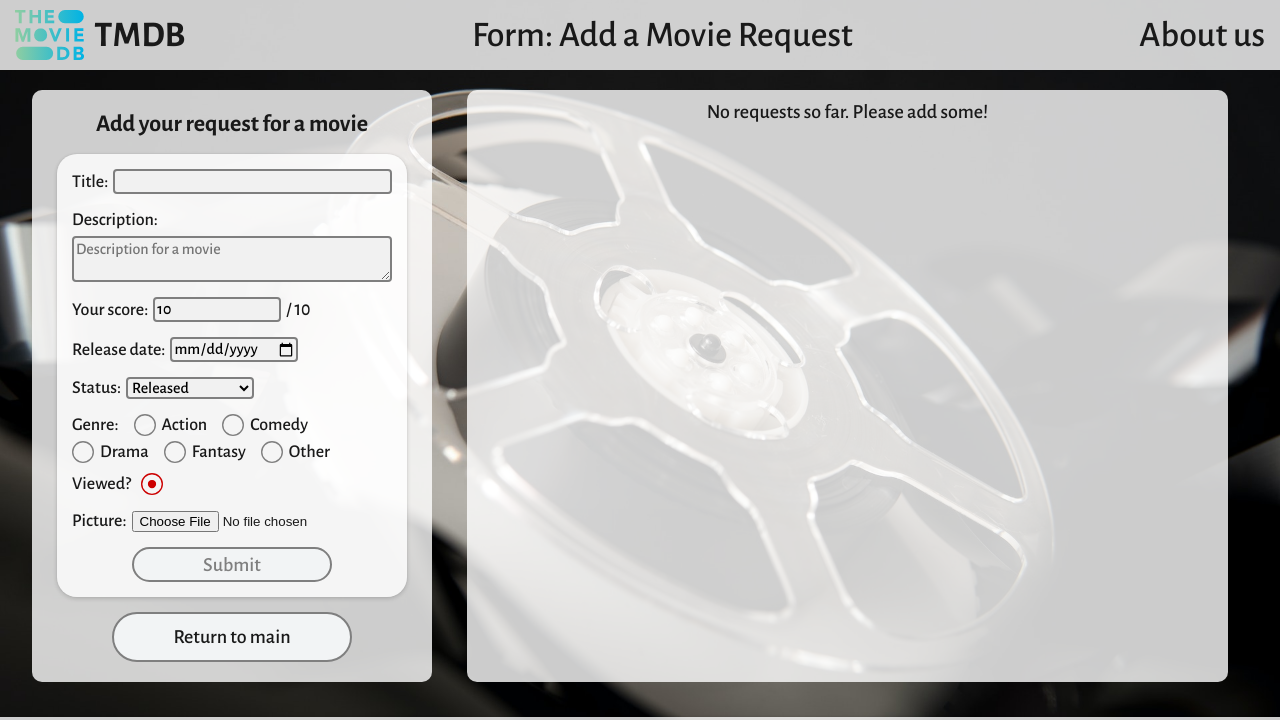
Form Page (with user generated cards) › creates new card after submitting
Step 1. Type "New Camera Card" into the field → (253, 182), box [113,169,392,194]
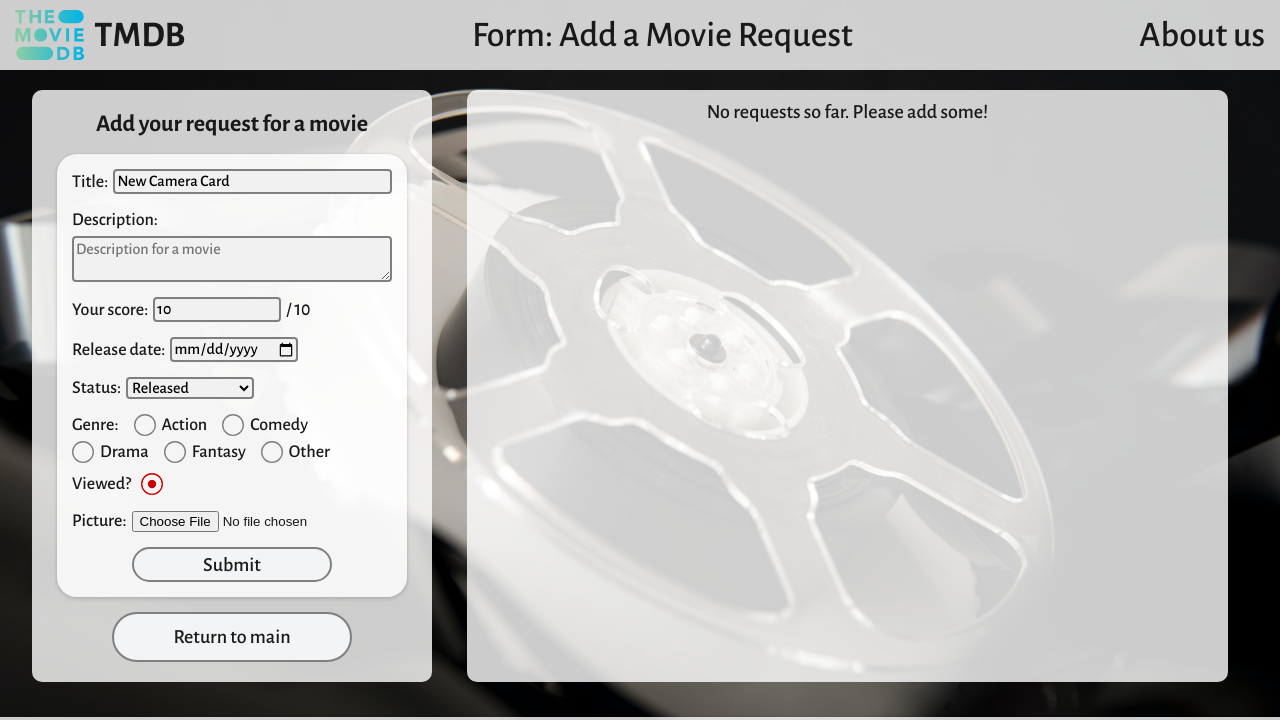
Step 2. Click the button "Submit" → (232, 564), box [132,547,332,582]
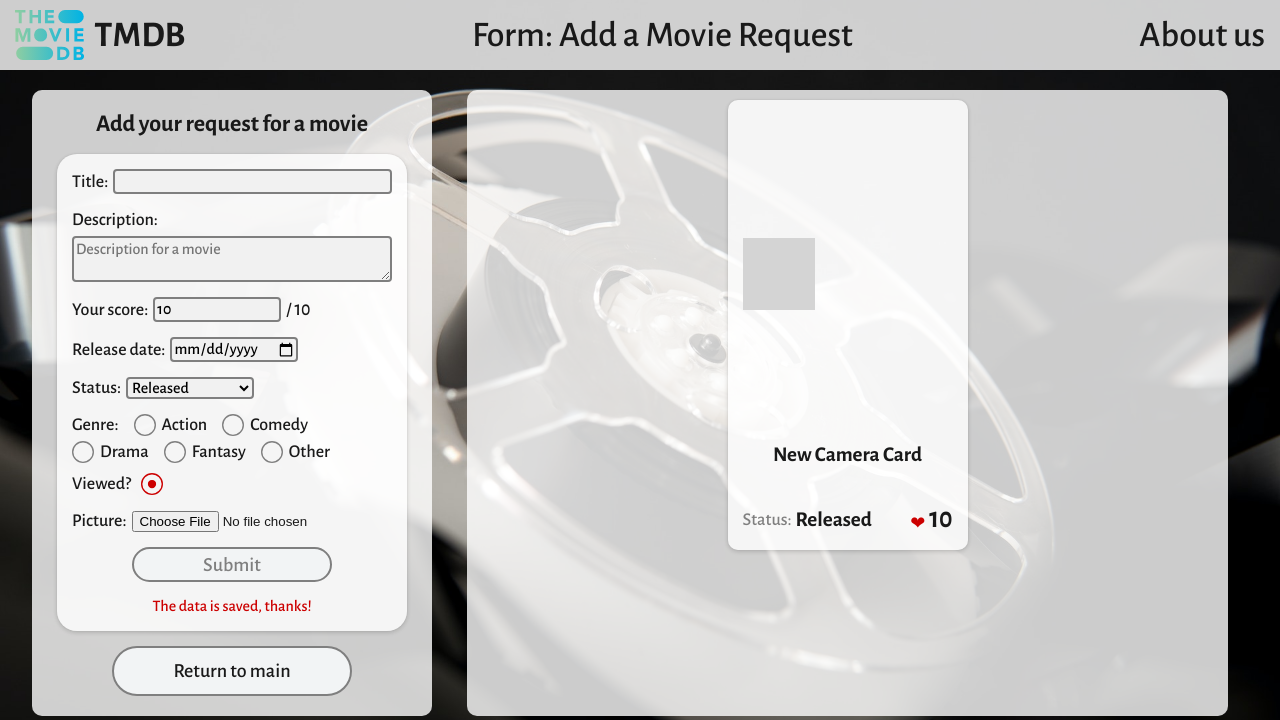
Result: the heading "New Camera Card" is shown at [773,444,922,465]
